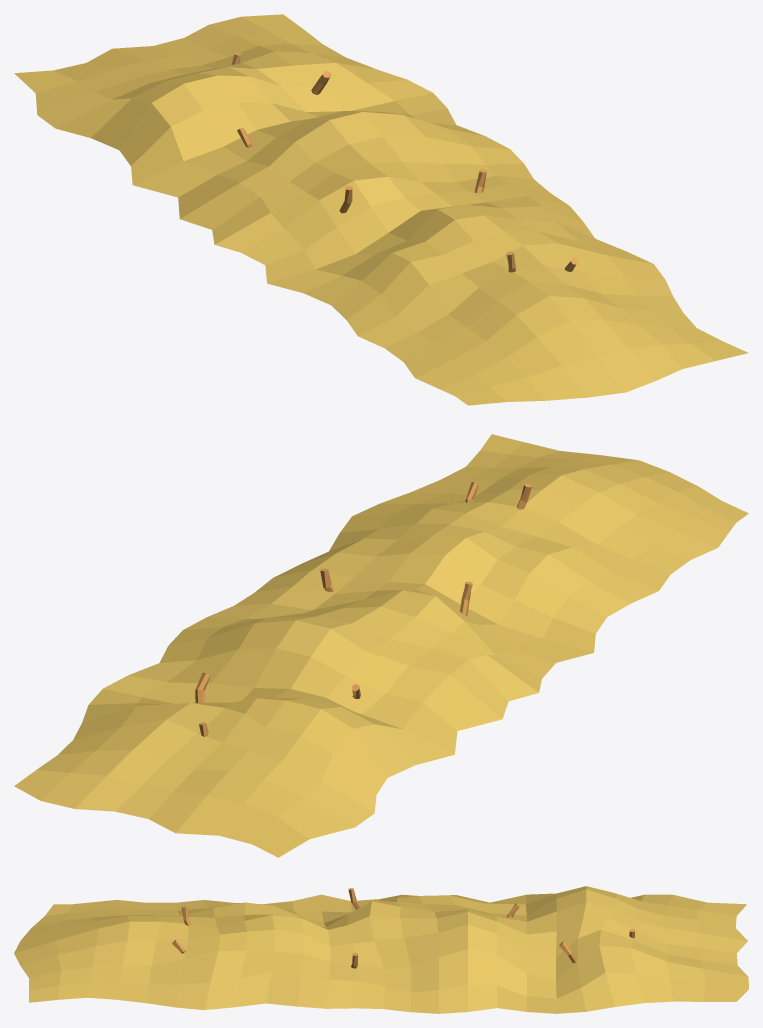
File: sandpuddle02.fbx
The picture shows the model from 3 angles, top to bottom: view 1: azimuth 30°, elevation 25°; view 2: azimuth 150°, elevation 25°; view 3: azimuth 270°, elevation 25°; orthographic projection. The views are drawn at different scales.
Visible parts, largest first — view 1: Circle.011; view 2: Circle.011; view 3: Circle.011.
Part boxes in pixels (left/top/right/bottom): Circle.011: left=14, top=14, right=748, bottom=405; Circle.011: left=14, top=434, right=748, bottom=857; Circle.011: left=14, top=886, right=748, bottom=1013.
Bounding box in the file's own units: 2.48 × 0.4363 × 6.45.
